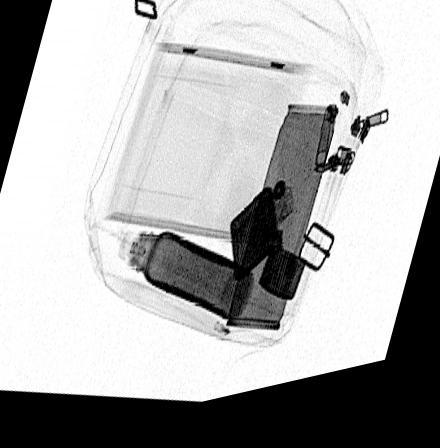Lighter: (230, 189, 308, 313)
